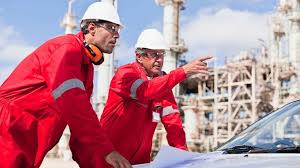Person_wearing_helmet: (75, 0, 127, 29), (131, 27, 169, 56)
